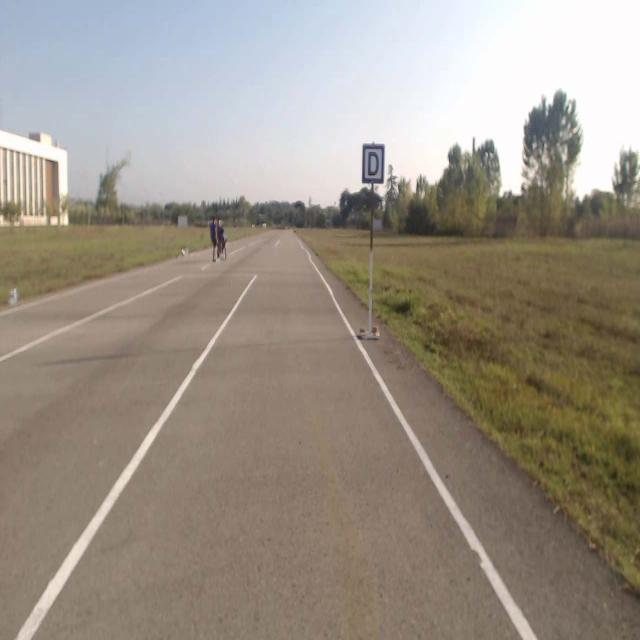durak: (362, 143, 384, 184)
